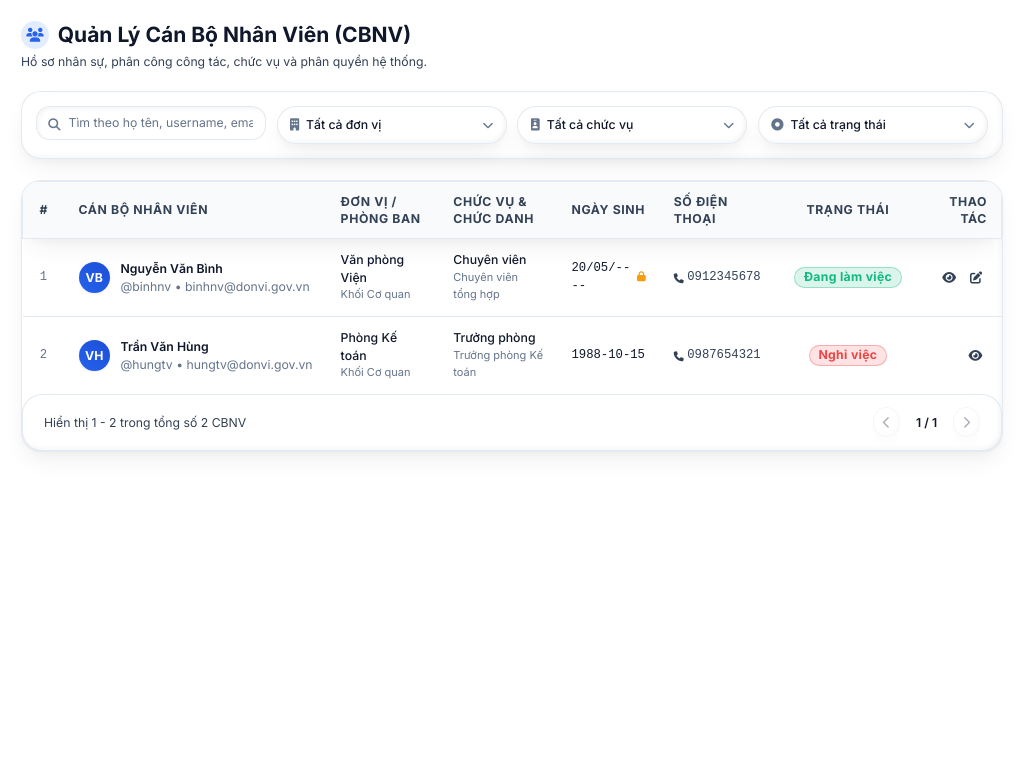
Scenario: EmployeesPage Component (Issue #24) › allows self-edit for own record with change_self_cbnv and disables administrative fields
Expected: the text "Nguyễn Văn Bình" is shown, [120,261,223,276]
Click the button titled "Chỉnh sửa".
click(976, 278)  # box [965,264,988,292]
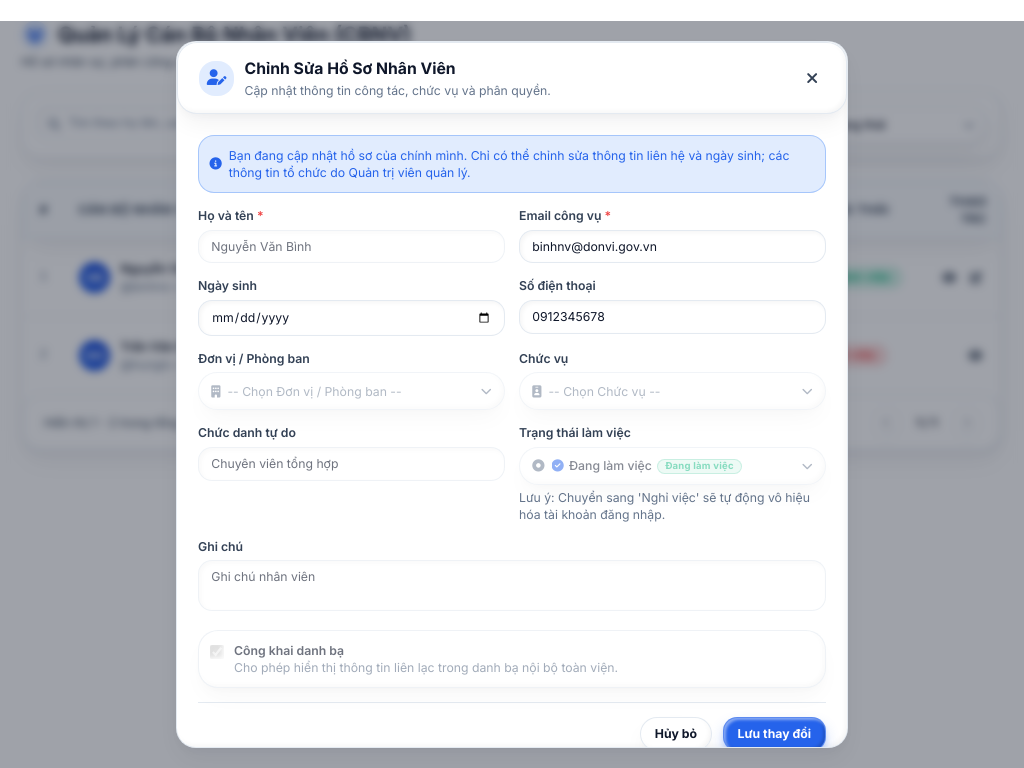
Result: the heading "Chỉnh Sửa Hồ Sơ Nhân Viên" is shown at [244,59,456,78]
Result: the text "Bạn đang cập nhật hồ sơ của chính mình" is shown at [229,148,790,180]
Result: the field named "ho_ten" below "Họ và tên" is disabled at [198,230,505,264]
